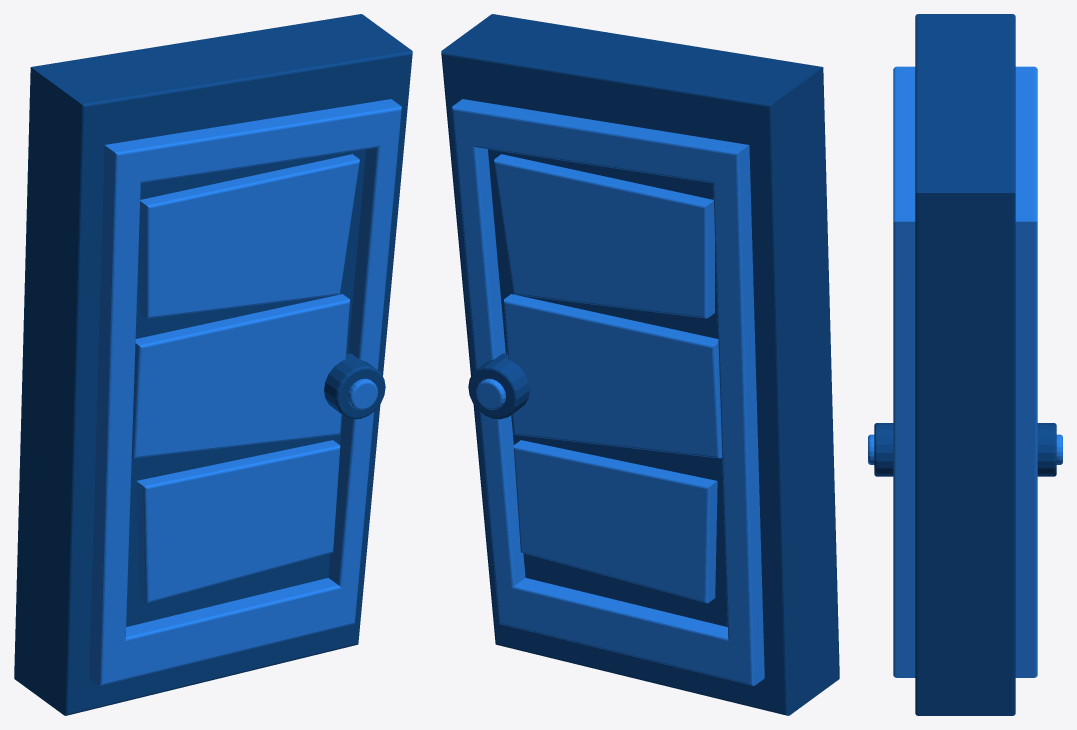
Rendered from sightseeing-mark.glb.
3 views of the same model, side by side, from view 1: azimuth 30°, elevation 25°; view 2: azimuth 150°, elevation 25°; view 3: azimuth 270°, elevation 25° (orthographic). The views are drawn at different scales.
Parts seen in each view (by area): view 1: facade, door-frame, panel-top, panel-middle, panel-bottom, handle-ring, handle-boss; view 2: facade, door-frame, panel-top, panel-middle, panel-bottom, handle-ring, handle-boss; view 3: facade, door-frame (×2), handle-ring (×2).
Boxes of the visible parts, <box> form: facade: <box>14,14,412,715</box>; door-frame: <box>89,99,401,685</box>; panel-top: <box>139,154,359,318</box>; panel-middle: <box>131,294,349,458</box>; panel-bottom: <box>136,440,340,603</box>; handle-ring: <box>324,353,385,419</box>; handle-boss: <box>348,378,377,410</box>; facade: <box>441,14,839,715</box>; door-frame: <box>452,99,764,685</box>; panel-top: <box>494,154,714,318</box>; panel-middle: <box>504,294,722,458</box>; panel-bottom: <box>513,440,717,603</box>; handle-ring: <box>468,353,529,419</box>; handle-boss: <box>476,378,505,410</box>; facade: <box>915,14,1015,715</box>; door-frame (×2): <box>893,66,1037,677</box>; handle-ring (×2): <box>874,423,1056,476</box>.
Bounding box in the file's own units: 60.36 × 101 × 31.
